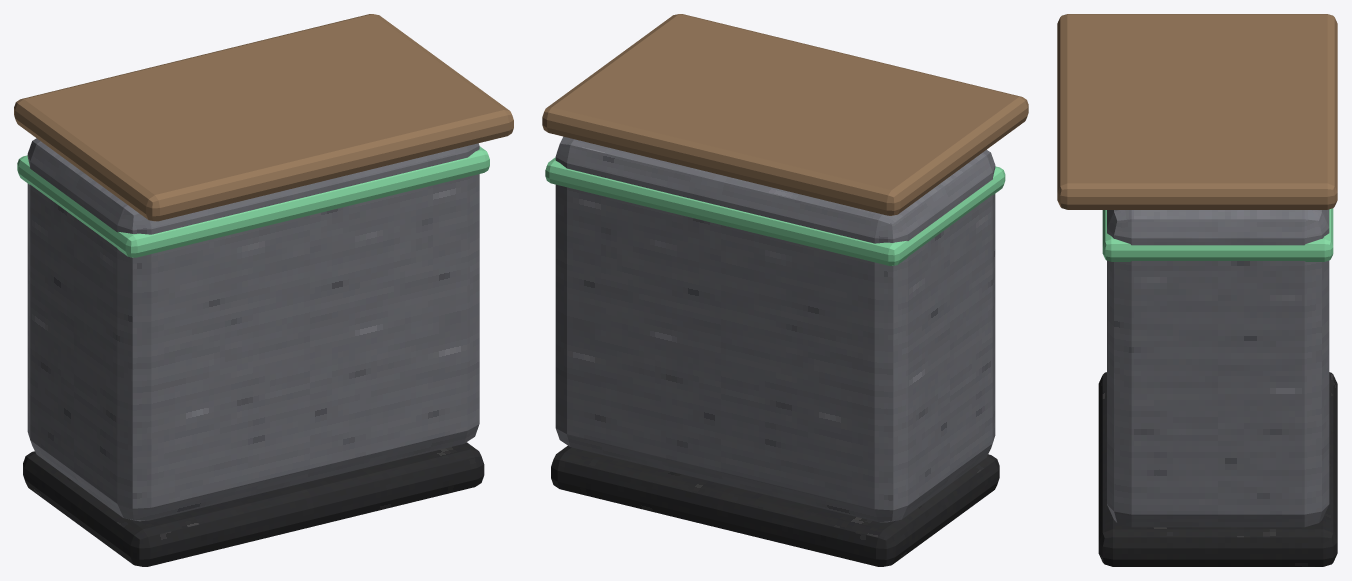
Rendered from decor_svc_bar_counter.glb.
3 views of the same model, side by side, from view 1: azimuth 30°, elevation 25°; view 2: azimuth 150°, elevation 25°; view 3: azimuth 270°, elevation 25° (orthographic). The views are drawn at different scales.
Visible parts, largest first — view 1: DEC_SvcBarCounter__Body, DEC_SvcBarCounter__Counter_Top, DEC_SvcBarCounter__Plinth, DEC_SvcBarCounter__Accent_Stripe; view 2: DEC_SvcBarCounter__Body, DEC_SvcBarCounter__Counter_Top, DEC_SvcBarCounter__Plinth, DEC_SvcBarCounter__Accent_Stripe; view 3: DEC_SvcBarCounter__Body, DEC_SvcBarCounter__Counter_Top, DEC_SvcBarCounter__Plinth, DEC_SvcBarCounter__Accent_Stripe.
Part boxes in pixels (left/top/right/bottom): DEC_SvcBarCounter__Body: left=27, top=138, right=479, bottom=521; DEC_SvcBarCounter__Counter_Top: left=14, top=14, right=513, bottom=221; DEC_SvcBarCounter__Plinth: left=23, top=442, right=484, bottom=566; DEC_SvcBarCounter__Accent_Stripe: left=17, top=146, right=489, bottom=257; DEC_SvcBarCounter__Body: left=555, top=136, right=995, bottom=522; DEC_SvcBarCounter__Counter_Top: left=542, top=14, right=1028, bottom=215; DEC_SvcBarCounter__Plinth: left=551, top=446, right=999, bottom=566; DEC_SvcBarCounter__Accent_Stripe: left=545, top=157, right=1005, bottom=265; DEC_SvcBarCounter__Body: left=1107, top=209, right=1329, bottom=527; DEC_SvcBarCounter__Counter_Top: left=1057, top=14, right=1337, bottom=209; DEC_SvcBarCounter__Plinth: left=1098, top=372, right=1337, bottom=566; DEC_SvcBarCounter__Accent_Stripe: left=1102, top=208, right=1333, bottom=261.
Size of the model in its own units: 1.02 by 1.04 by 0.68.
4 materials, 2 textured.
